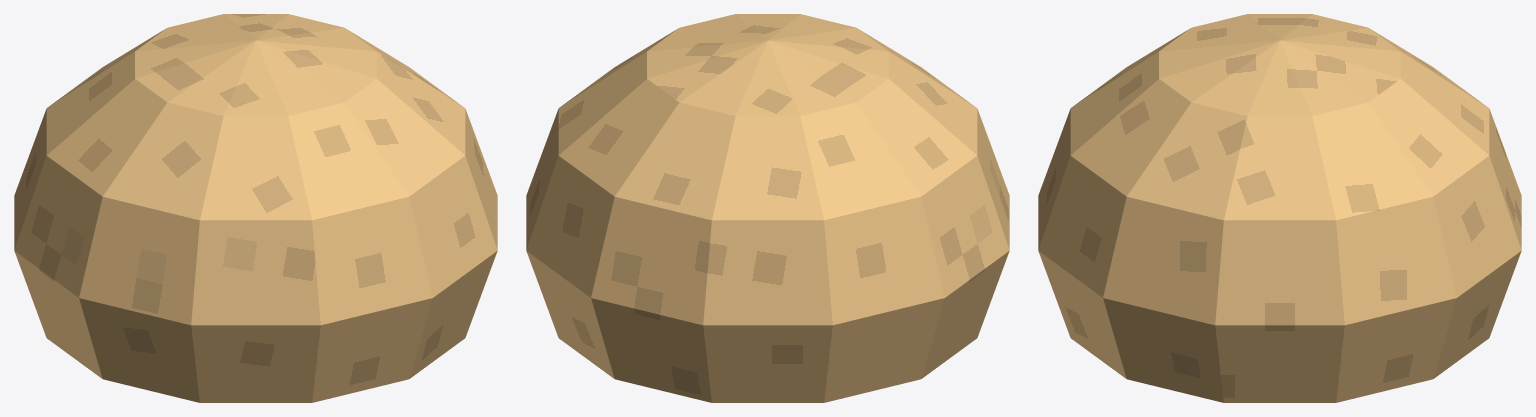
Rendered from dough.gltf.
3 views of the same model, side by side, from view 1: azimuth 30°, elevation 25°; view 2: azimuth 150°, elevation 25°; view 3: azimuth 270°, elevation 25° (orthographic).
Parts seen in each view (by area): view 1: sphere; view 2: sphere; view 3: sphere.
Boxes of the visible parts, x1,y1,x2,y2 form: sphere: (14,14,497,402); sphere: (526,14,1009,402); sphere: (1038,14,1521,402).
Size of the model in its own units: 1 by 0.625 by 1.
1 material, 1 textured.
